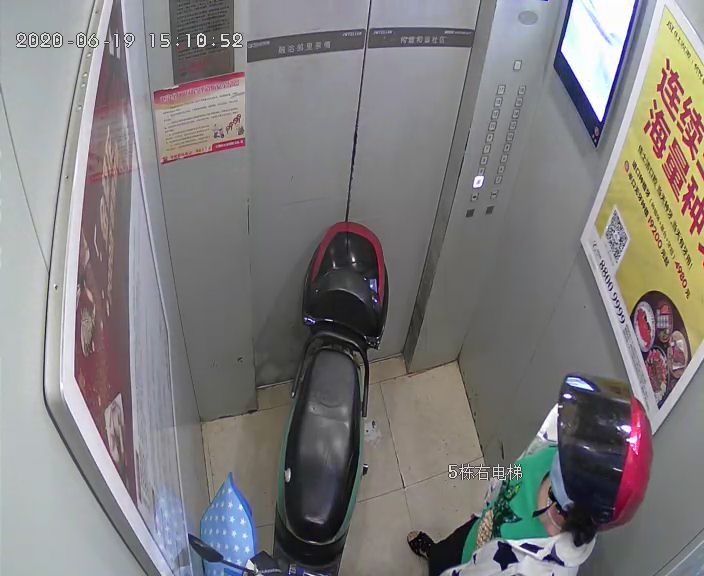Electric-bicycle: (190, 221, 388, 574)
